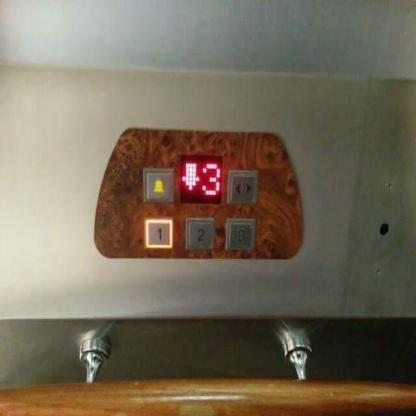1: (144, 216, 173, 249)
2: (184, 216, 214, 250)
3: (225, 217, 254, 251)
alarm: (140, 164, 174, 204)
led: (178, 151, 224, 205)
open: (228, 168, 258, 205)
